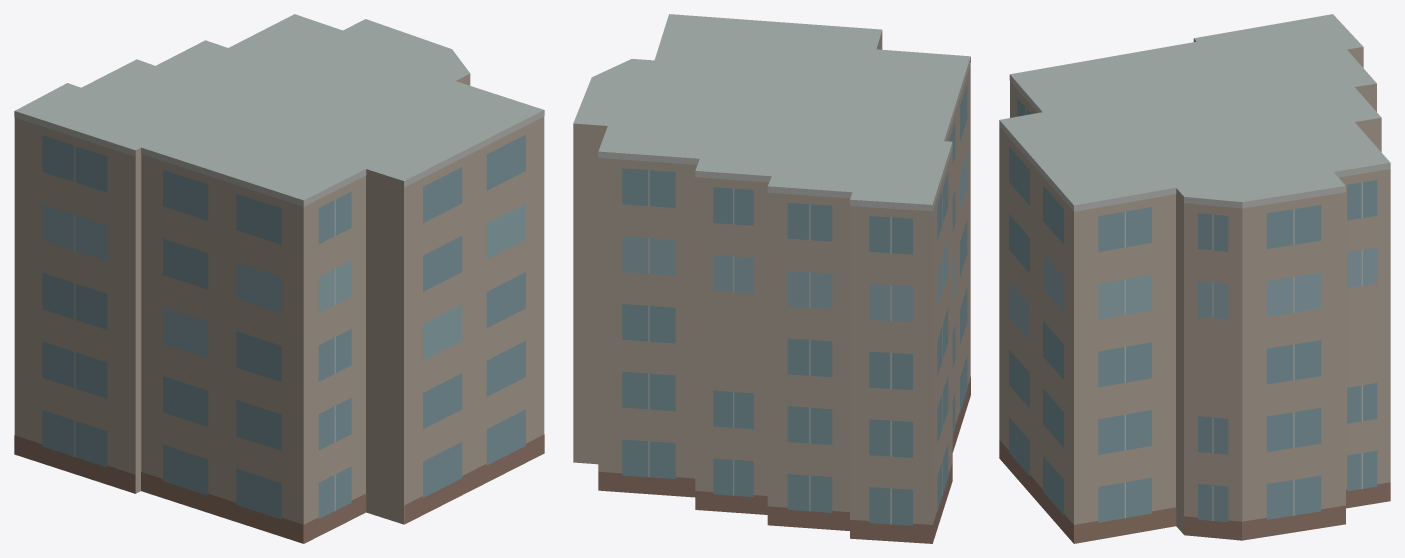
Rendered from survey-upis-32656484.glb.
3 renders of one model, left to right at view 1: azimuth 30°, elevation 25°; view 2: azimuth 150°, elevation 25°; view 3: azimuth 270°, elevation 25°, orthographic.
Visible parts, largest first — view 1: survey-upis-32656484.tmp; view 2: survey-upis-32656484.tmp; view 3: survey-upis-32656484.tmp.
Boxes of the visible parts, left/top/right/bottom form: survey-upis-32656484.tmp: left=14, top=14, right=544, bottom=543; survey-upis-32656484.tmp: left=573, top=14, right=970, bottom=543; survey-upis-32656484.tmp: left=999, top=14, right=1390, bottom=543.
Size of the model in its own units: 15.79 by 13 by 13.64.
